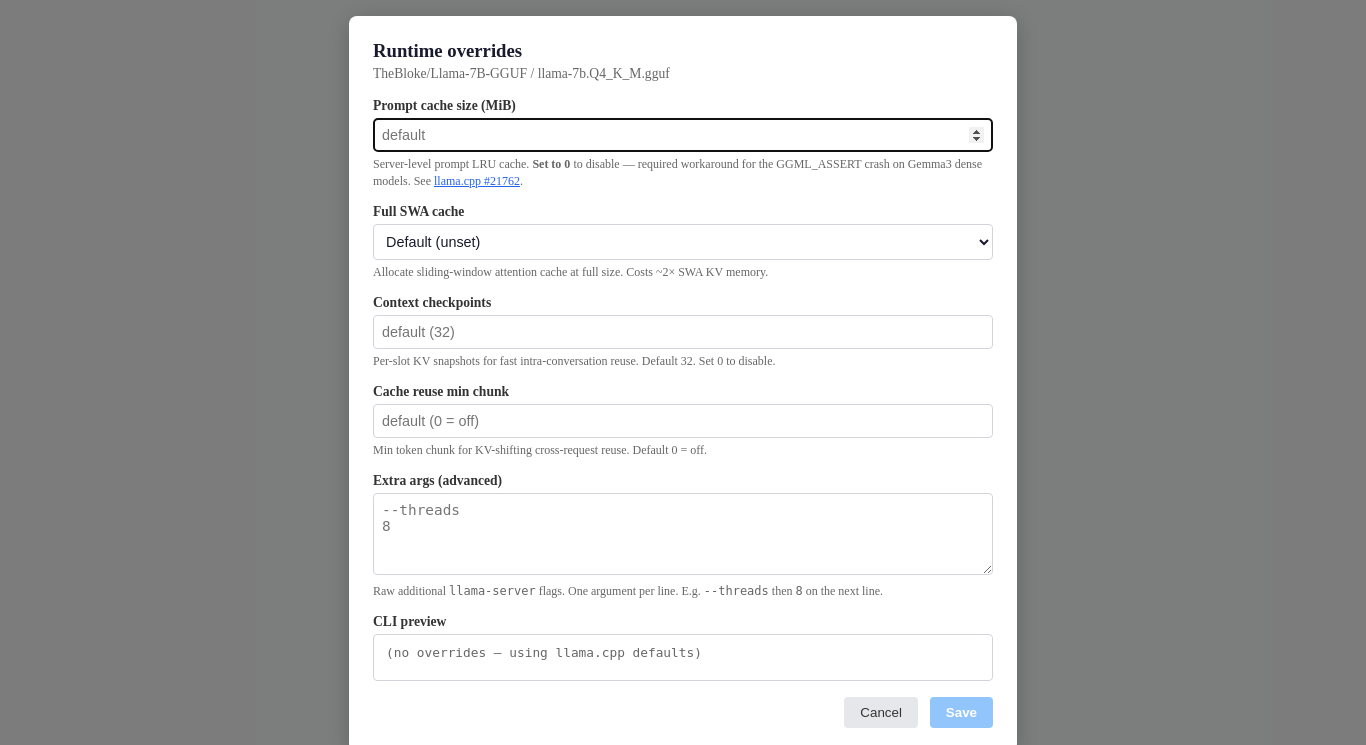
RuntimeOverridesEditor component › shows API error when save fails and keeps form open
In the number field labelled "Prompt cache size (MiB)": (683, 135) [373,118,993,152], type "0"
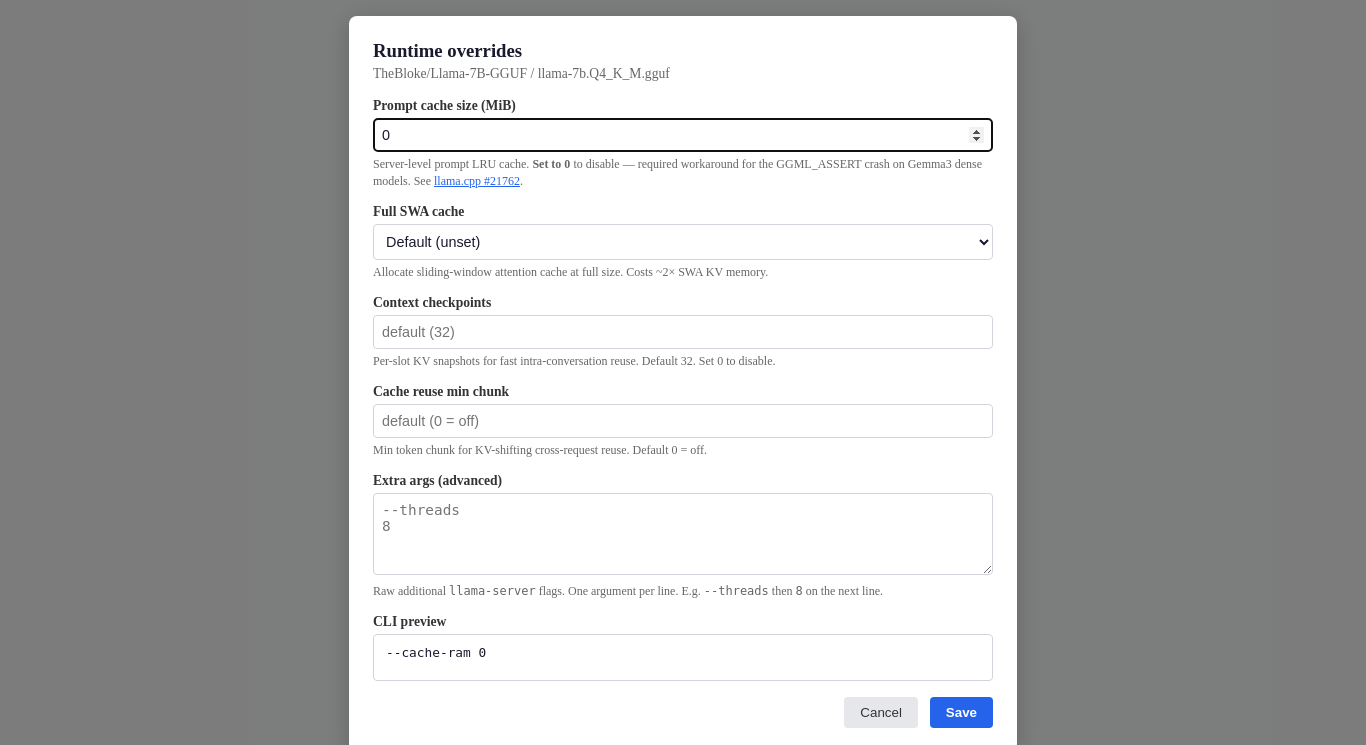
Click the button "Save": (961, 713) [930,697,993,728]
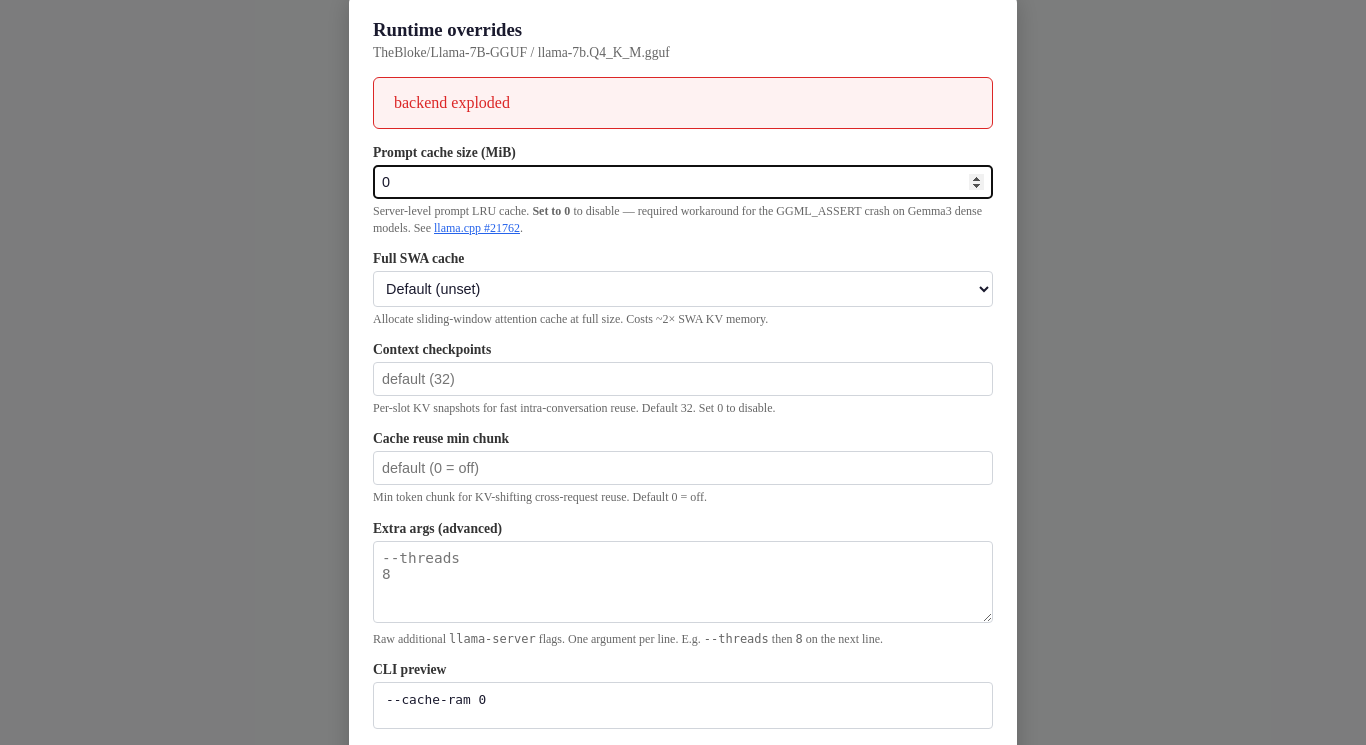
Expected: the text "backend exploded" is shown, [394,94,510,111]
